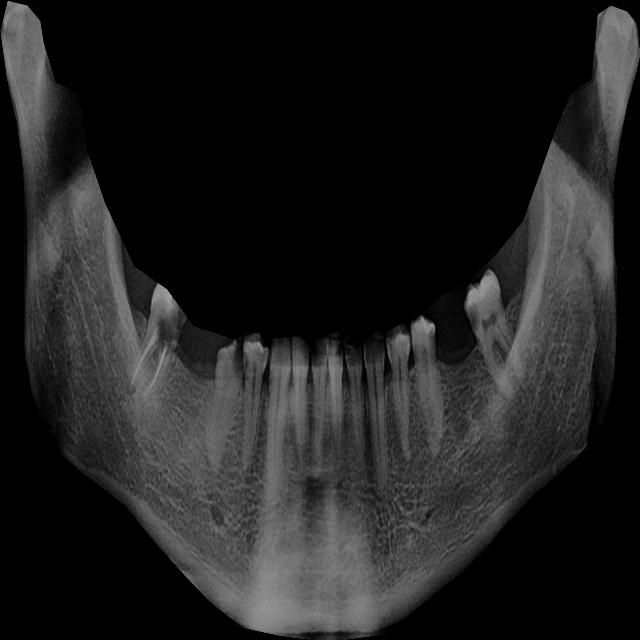mandibula: (0, 1, 640, 640)
